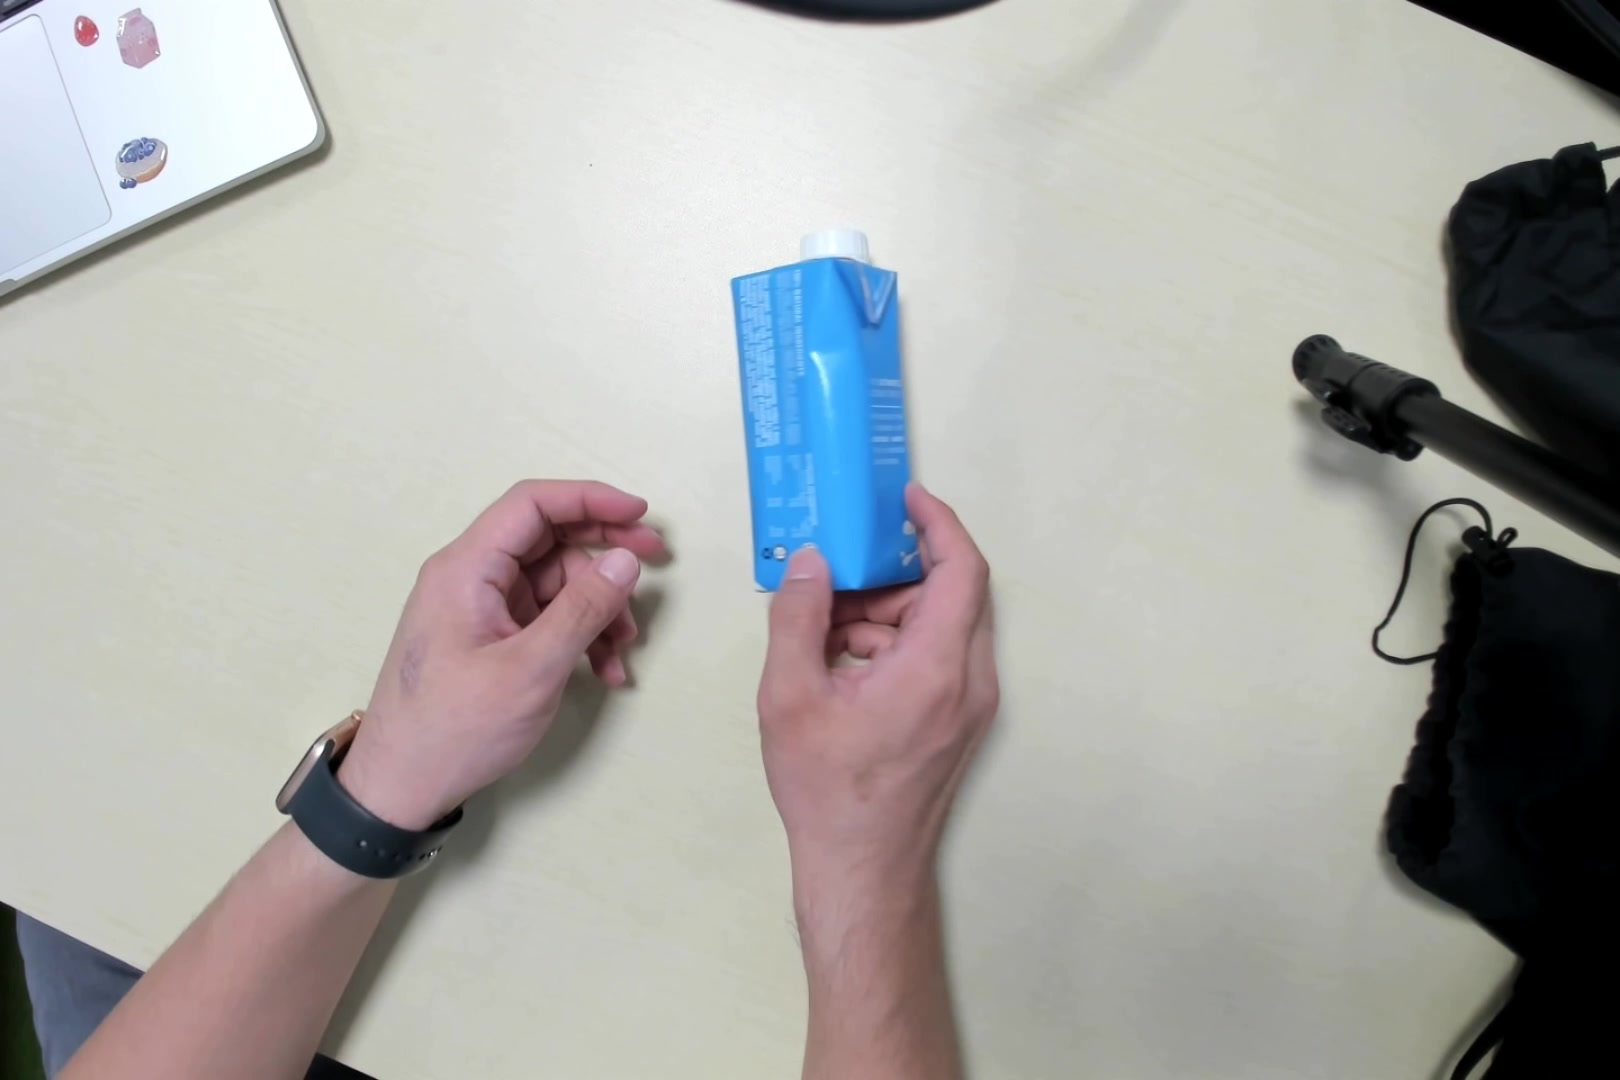CookingCreamMilk_300-399g_Halal_NonHealthy: (722, 217, 927, 601)
